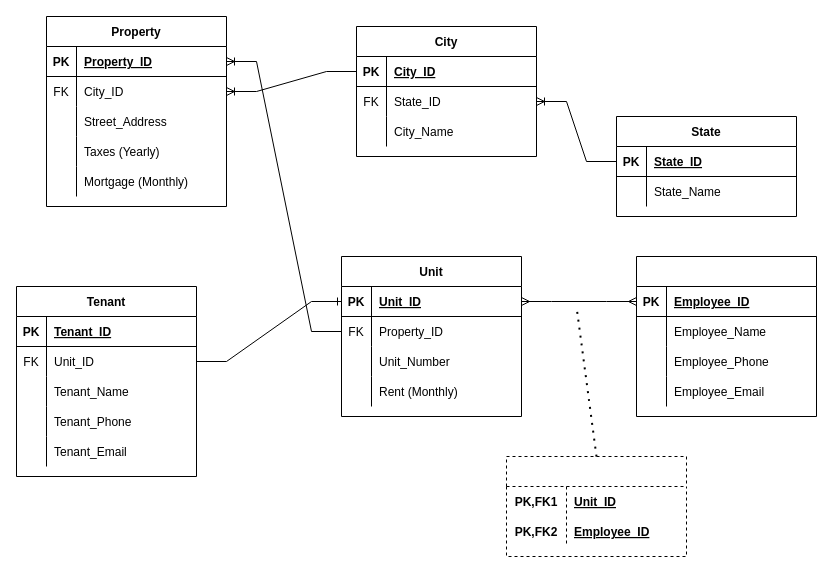
Image size: 833x573. Some labels were removed from this diagram. Each missing label, with the box of its shape:
Maintenance_Employee: (636, 256, 816, 416)
Unit_Employee: (506, 456, 686, 556)
